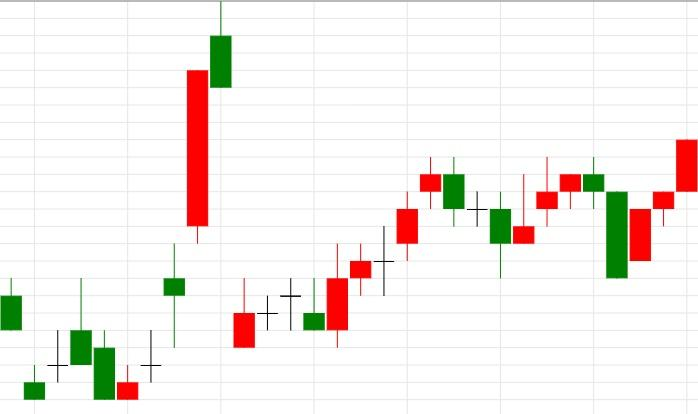bearish_engulfing_fall: (304, 157, 466, 347)
inverse_hammer_rise: (444, 157, 535, 278)
three_white_soldiers_rise: (443, 157, 582, 279), (582, 138, 698, 279)
